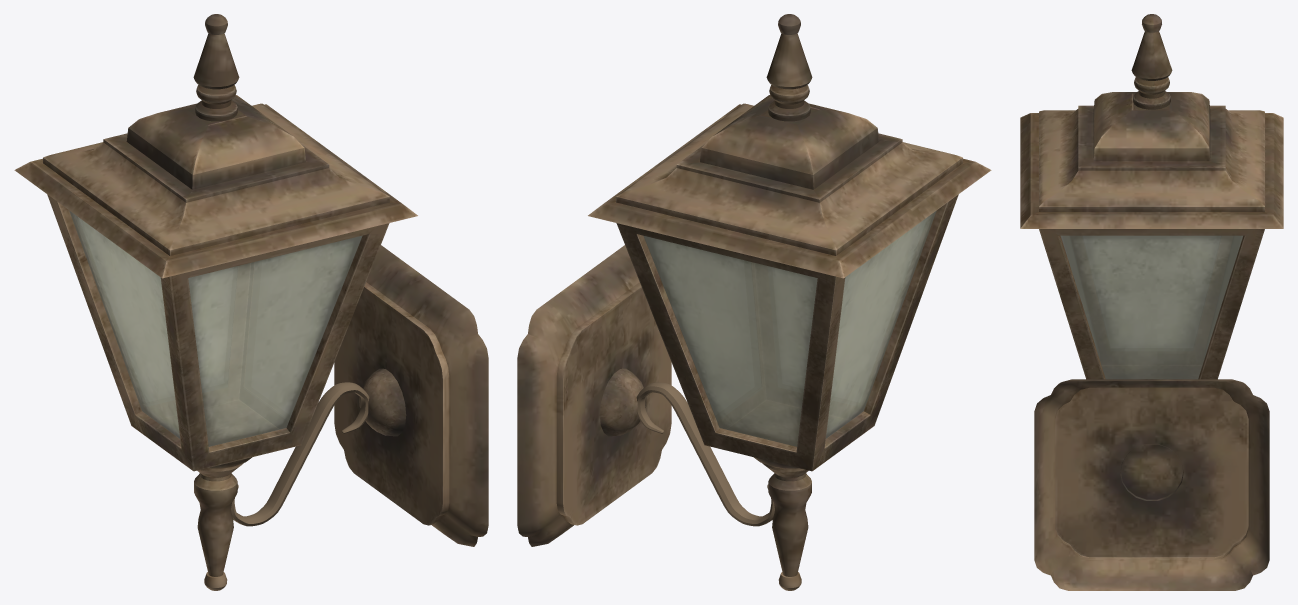
Rendered from sconce2.glb.
3 views of the same model, side by side, from view 1: azimuth 30°, elevation 25°; view 2: azimuth 150°, elevation 25°; view 3: azimuth 270°, elevation 25° (orthographic). The views are drawn at different scales.
Visible parts, largest first — view 1: Plane_Bronze_0, Cube.001_Glass_0; view 2: Plane_Bronze_0, Cube.001_Glass_0; view 3: Plane_Bronze_0, Cube.001_Glass_0.
Part boxes in pixels (bbox=[...]): Plane_Bronze_0: bbox=[14, 14, 488, 590]; Cube.001_Glass_0: bbox=[69, 210, 362, 446]; Plane_Bronze_0: bbox=[517, 14, 991, 590]; Cube.001_Glass_0: bbox=[643, 210, 936, 446]; Plane_Bronze_0: bbox=[1020, 14, 1283, 590]; Cube.001_Glass_0: bbox=[1061, 235, 1242, 379].
Bounding box in the file's own units: 0.7598 × 1.25 × 0.5828.
2 materials, 2 textured.
